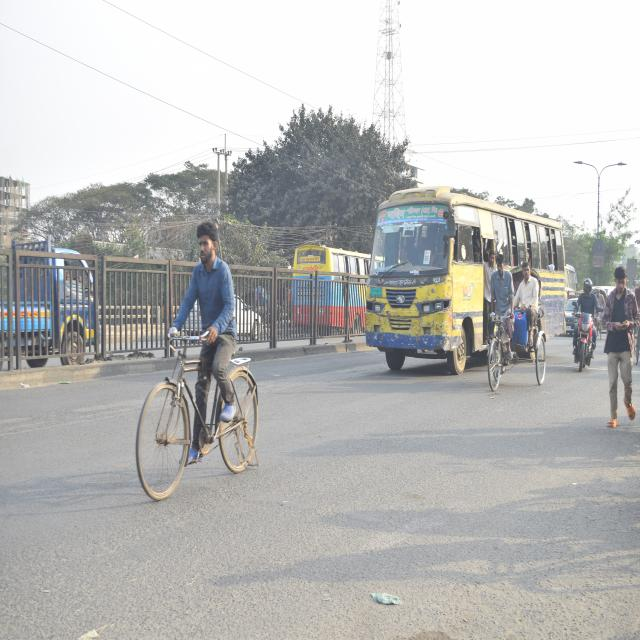bus: (357, 186, 568, 363)
motorbike: (565, 298, 600, 380)
